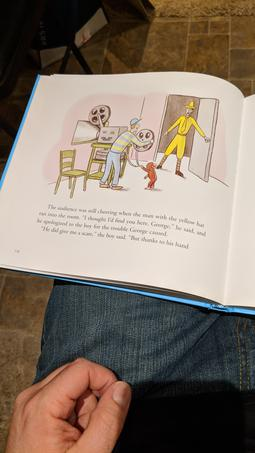text block: (32, 203, 213, 253)
